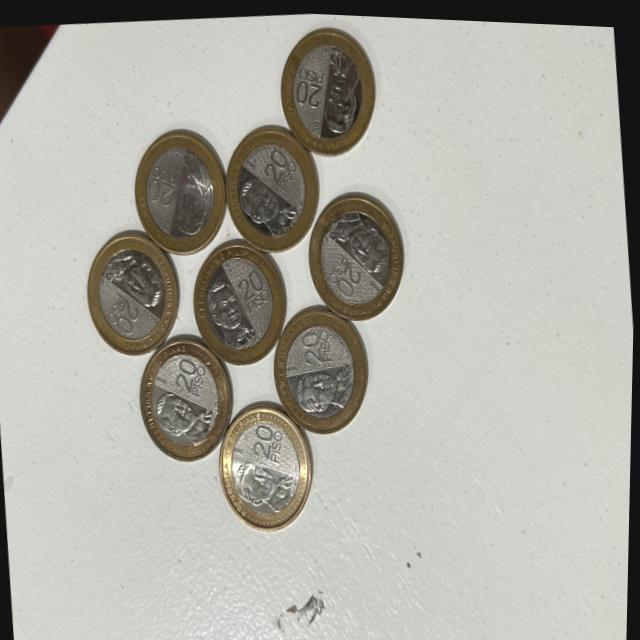20_New_Front: (132, 156, 182, 222), (283, 52, 329, 121), (240, 414, 294, 462), (100, 289, 149, 339), (285, 323, 338, 367), (252, 143, 296, 190), (171, 351, 215, 398), (325, 251, 369, 291), (231, 256, 270, 298)
